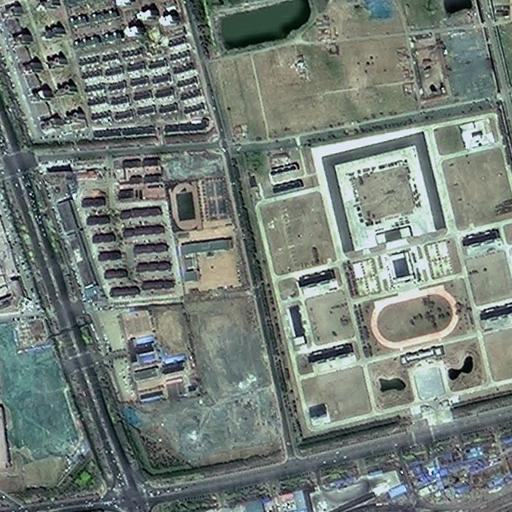school: (165, 169, 251, 296)
